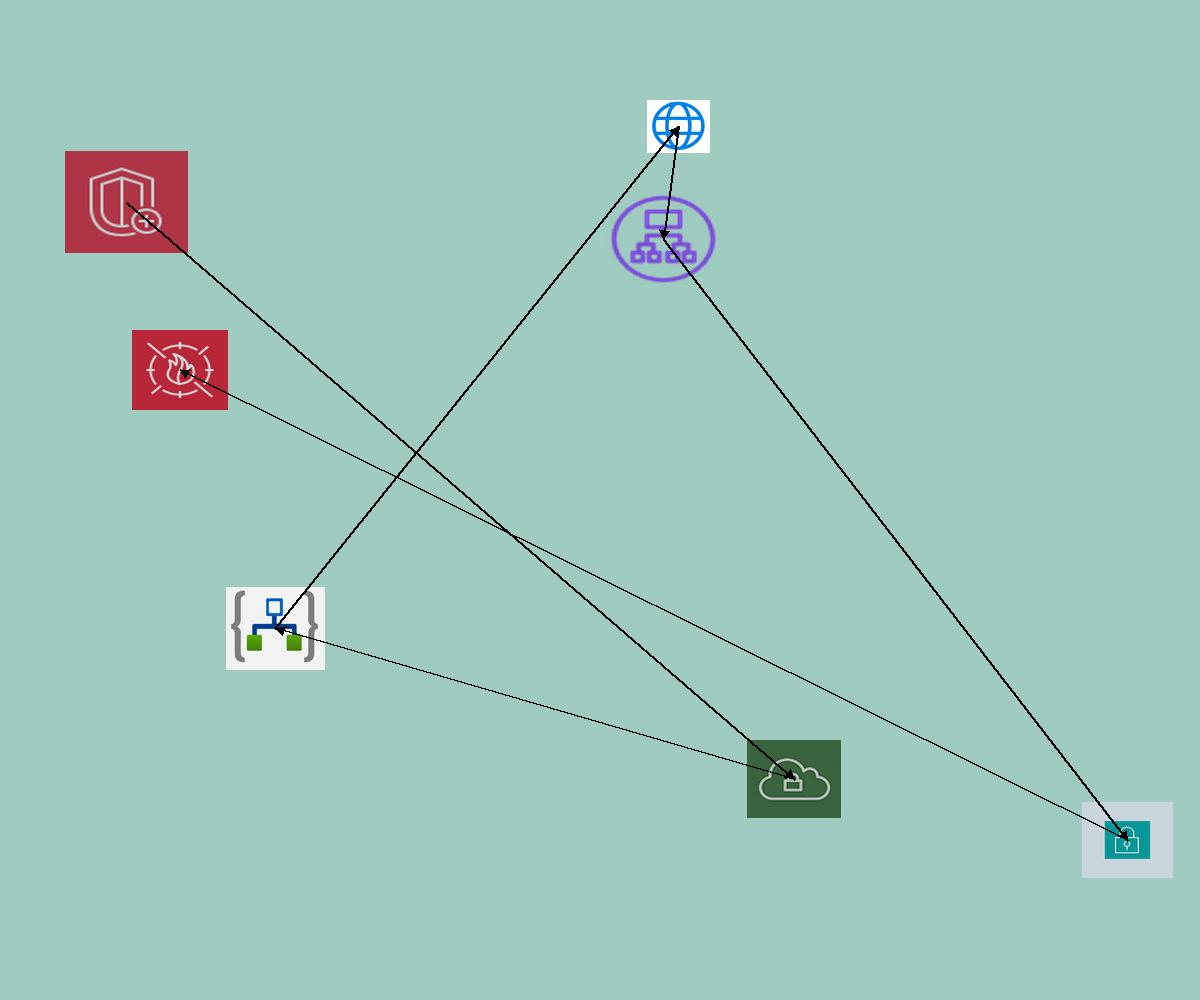AWS-Private-subnet: (1082, 802, 1173, 878)
AWS-Private_vpc: (747, 740, 841, 818)
AWS-Res_Elastic-Load-Balancing_Application-Load-Balancer: (607, 192, 720, 286)
AWS-Shield: (65, 151, 188, 253)
AWS-WAF: (132, 330, 228, 410)
Azure_http: (647, 100, 710, 153)
Azure_integration-204-Logic-Apps: (226, 587, 325, 670)
